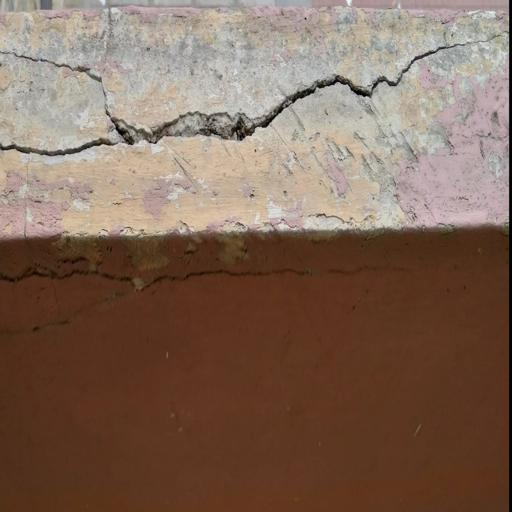major_crack: (6, 24, 504, 186), (0, 229, 441, 336)
